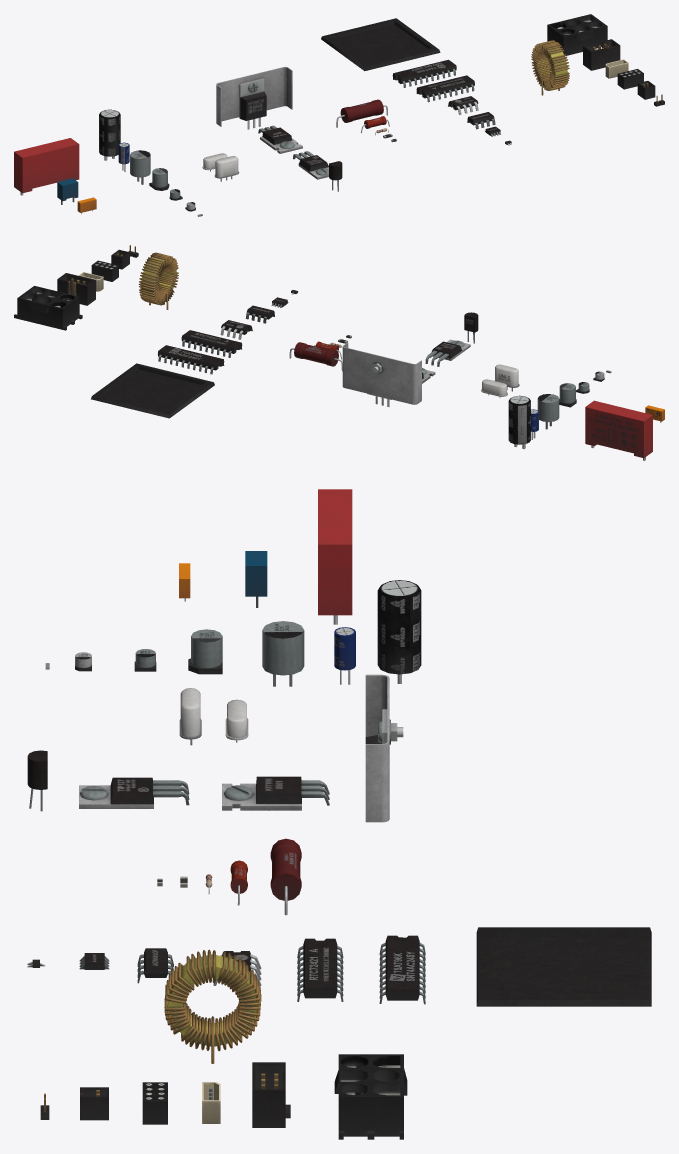
The model's file is IntegratedCircuit7.FBX.
3 renders of one model, top to bottom at view 1: azimuth 30°, elevation 25°; view 2: azimuth 150°, elevation 25°; view 3: azimuth 270°, elevation 25°, orthographic. The views are drawn at different scales.
Parts seen in each view (by area): view 1: IntegratedCircuit7, Transistor4, Relay3, Plug6, Inductor, Capacitor7, IntegratedCircuit6, Plug5, IntegratedCircuit5, Transistor3, Resistor5, Transistor2 (+8 smaller); view 2: IntegratedCircuit7, Transistor4, Relay3, Plug6, Inductor, Capacitor7, IntegratedCircuit6, IntegratedCircuit5, Plug5, Resistor5, Transistor2, Capacitor5 (+6 smaller); view 3: IntegratedCircuit7, Inductor, Plug6, Relay3, Capacitor7, Transistor4, Transistor3, IntegratedCircuit6, Transistor2, IntegratedCircuit5, Plug5, Capacitor5 (+8 smaller).
Part boxes in pixels (bbox=[...]): IntegratedCircuit7: bbox=[321, 18, 440, 71]; Transistor4: bbox=[216, 66, 292, 129]; Relay3: bbox=[14, 138, 79, 195]; Plug6: bbox=[547, 14, 607, 55]; Inductor: bbox=[531, 40, 569, 95]; Capacitor7: bbox=[99, 109, 120, 160]; IntegratedCircuit6: bbox=[392, 59, 456, 87]; Plug5: bbox=[583, 39, 620, 70]; IntegratedCircuit5: bbox=[416, 75, 474, 102]; Transistor3: bbox=[258, 125, 302, 153]; Resistor5: bbox=[336, 99, 387, 127]; Transistor2: bbox=[293, 151, 328, 179]; IntegratedCircuit7: bbox=[91, 363, 214, 418]; Transistor4: bbox=[342, 342, 421, 406]; Relay3: bbox=[585, 400, 652, 460]; Plug6: bbox=[14, 286, 82, 330]; Inductor: bbox=[138, 252, 178, 309]; Capacitor7: bbox=[508, 395, 530, 449]; IntegratedCircuit6: bbox=[158, 345, 224, 374]; IntegratedCircuit5: bbox=[181, 330, 242, 357]; Plug5: bbox=[57, 273, 95, 305]; Resistor5: bbox=[289, 342, 342, 371]; Transistor2: bbox=[425, 339, 470, 366]; Capacitor5: bbox=[537, 394, 559, 429]; IntegratedCircuit7: bbox=[476, 927, 651, 1006]; Inductor: bbox=[164, 949, 261, 1063]; Plug6: bbox=[334, 1054, 407, 1139]; Relay3: bbox=[318, 489, 352, 624]; Capacitor7: bbox=[377, 580, 421, 683]; Transistor4: bbox=[365, 674, 403, 822]; Transistor3: bbox=[222, 776, 329, 810]; IntegratedCircuit6: bbox=[379, 935, 425, 1004]; Transistor2: bbox=[79, 777, 189, 808]; IntegratedCircuit5: bbox=[297, 938, 343, 1001]; Plug5: bbox=[252, 1062, 290, 1127]; Capacitor5: bbox=[262, 621, 304, 686].
Bounding box in the file's own units: 5163 × 469 × 2353.
1 material, 1 textured.
